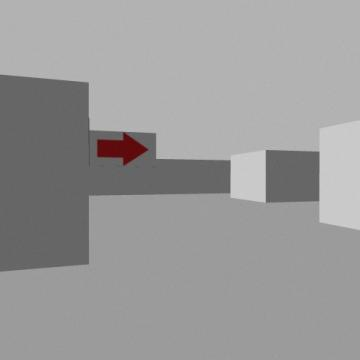red_right: (98, 133, 148, 165)
